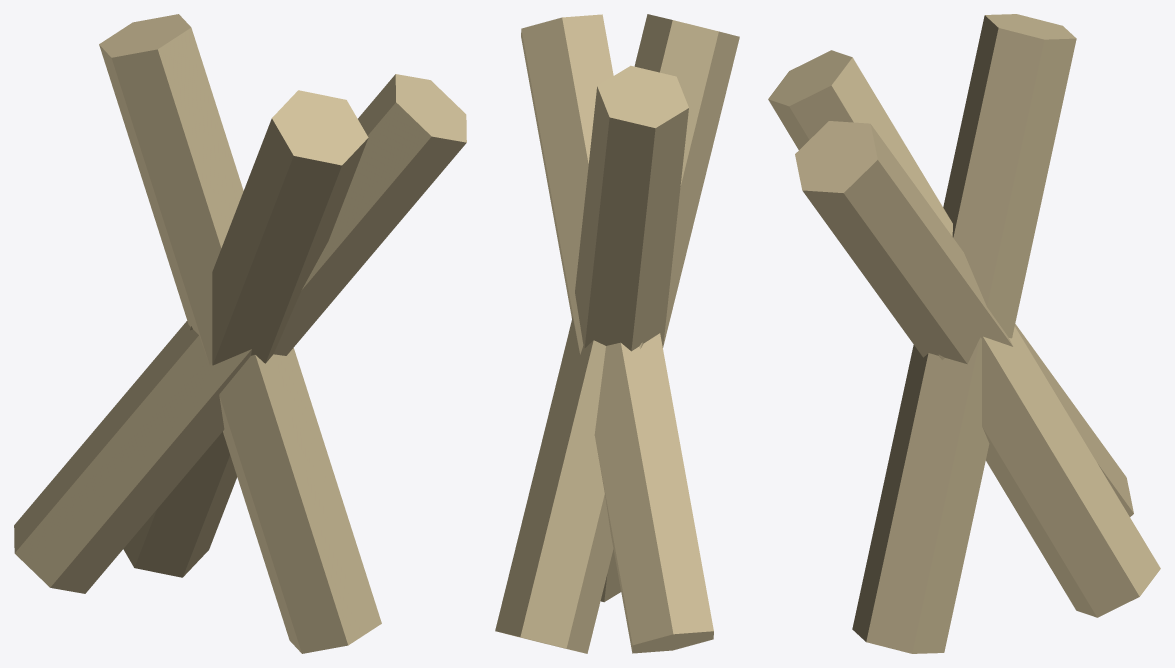
Rendered from build_site.dae.
3 views of the same model, side by side, from view 1: azimuth 30°, elevation 25°; view 2: azimuth 150°, elevation 25°; view 3: azimuth 270°, elevation 25° (orthographic). The views are drawn at different scales.
Visible parts, largest first — view 1: Cylinder.001, Cylinder.002, Cylinder; view 2: Cylinder.002, Cylinder, Cylinder.001; view 3: Cylinder.001, Cylinder, Cylinder.002.
Part boxes in pixels (box(x1,y1,x2,y2)): Cylinder.001: box(99, 14, 381, 653); Cylinder.002: box(14, 74, 466, 593); Cylinder: box(123, 90, 368, 577); Cylinder.002: box(521, 14, 713, 653); Cylinder: box(495, 14, 739, 653); Cylinder.001: box(572, 65, 688, 602); Cylinder.001: box(852, 14, 1076, 653); Cylinder: box(768, 50, 1160, 617); Cylinder.002: box(795, 121, 1133, 516).
Size of the model in its own units: 22.7 by 24.44 by 39.99.
